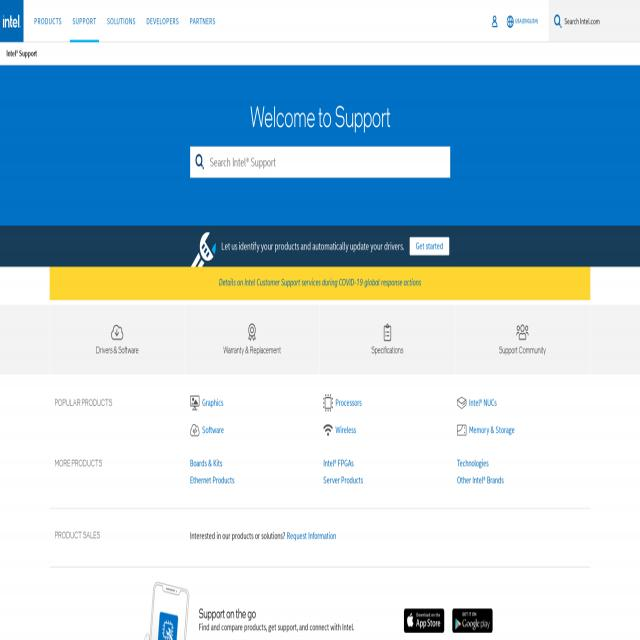button: (144, 0, 182, 42), (104, 0, 138, 42), (505, 0, 539, 42), (31, 0, 64, 42), (187, 0, 218, 42), (70, 0, 99, 42), (190, 226, 216, 267), (452, 611, 493, 630), (404, 611, 444, 630), (490, 0, 500, 42), (3, 15, 21, 27), (323, 394, 333, 412), (190, 395, 199, 411), (323, 424, 333, 437), (554, 13, 562, 28), (457, 397, 466, 410), (190, 424, 199, 436), (457, 425, 466, 436)
field: (190, 146, 450, 178)
